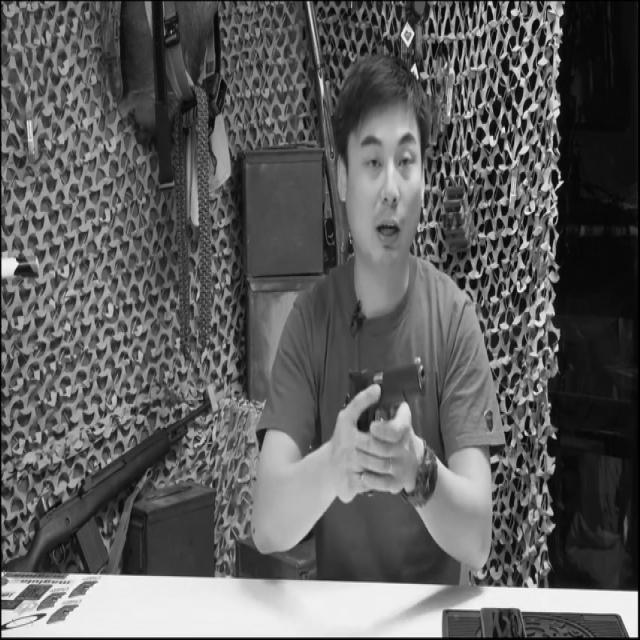Hand-Gun: (302, 328, 454, 532)
